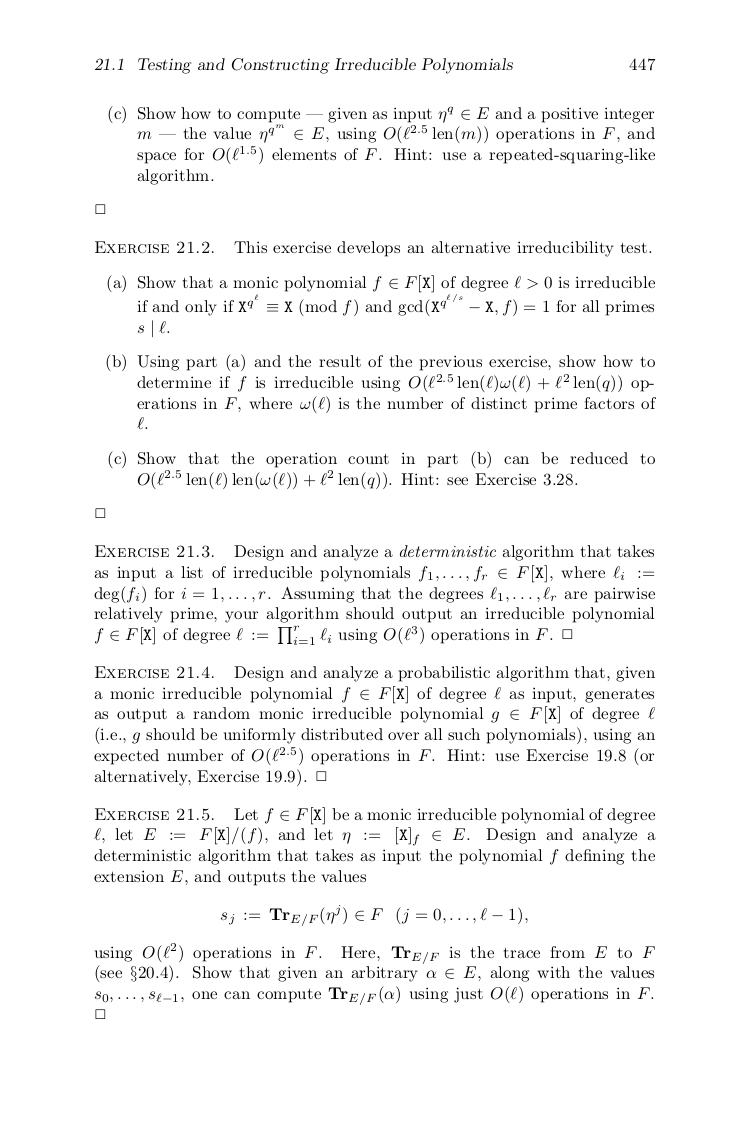figure: (95, 204, 105, 213)
formula: (221, 904, 527, 926)
